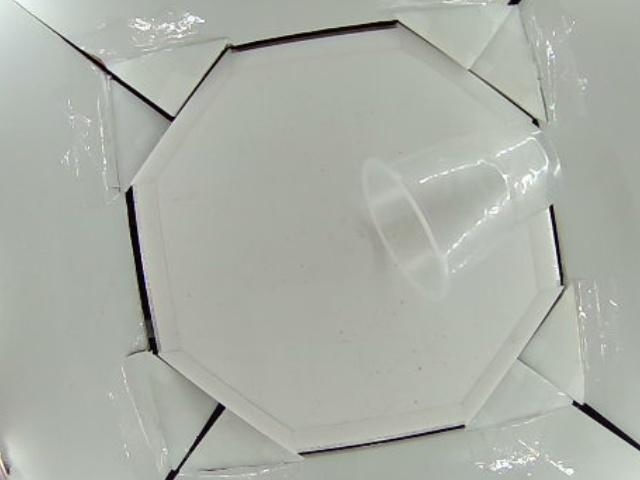Cup: (359, 118, 565, 301)
